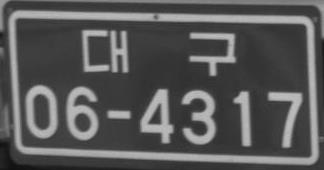0: (24, 83, 58, 139)
1: (224, 89, 261, 147)
3: (180, 88, 216, 146)
4: (139, 88, 175, 143)
6: (65, 85, 100, 141)
7: (266, 90, 304, 149)
대구_D: (82, 28, 236, 75)
